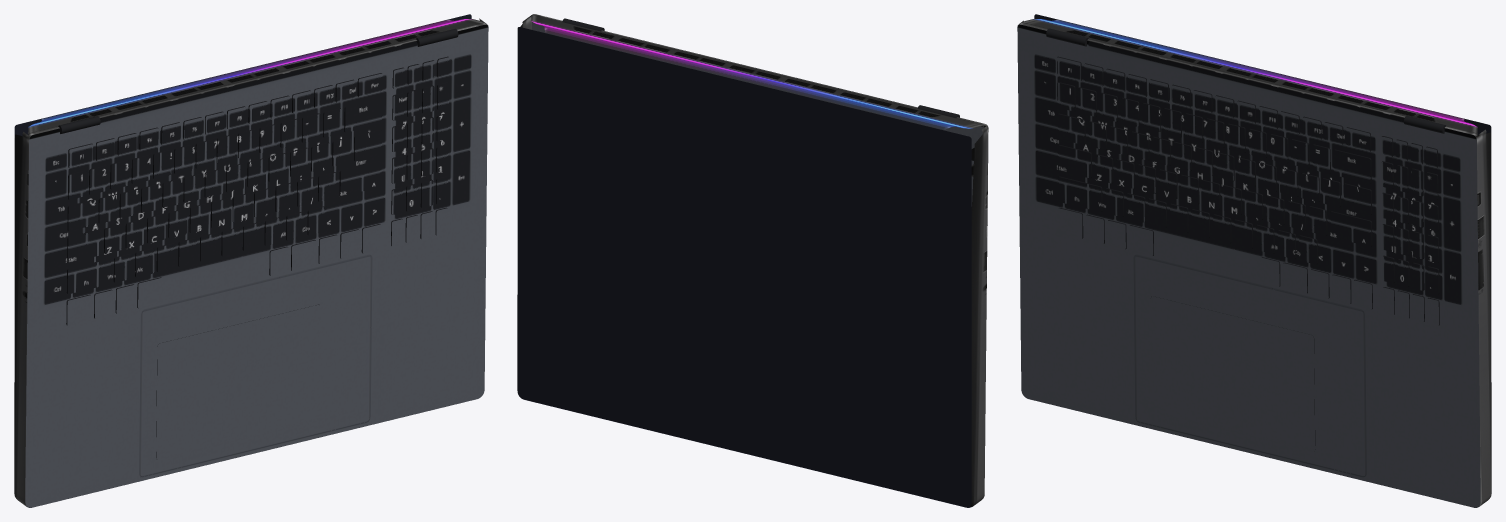
File: body.obj
The picture shows the model from 3 angles, left to right: view 1: azimuth 30°, elevation 25°; view 2: azimuth 150°, elevation 25°; view 3: azimuth 330°, elevation 25°; orthographic projection.
Visible parts, largest first — view 1: deck, keys.001, base.002, keys, base.003, hinge; view 2: base.004, base.002, base.003, deck; view 3: deck, keys.001, base.002, keys, base.001, hinge.
Boxes of the visible parts, bbox=[...] form: deck: bbox=[25, 24, 488, 507]; keys.001: bbox=[67, 57, 449, 325]; base.002: bbox=[28, 19, 487, 136]; keys: bbox=[66, 56, 448, 325]; base.003: bbox=[14, 132, 29, 506]; hinge: bbox=[58, 28, 458, 133]; base.004: bbox=[517, 27, 971, 507]; base.002: bbox=[531, 14, 987, 129]; base.003: bbox=[970, 125, 988, 506]; deck: bbox=[532, 22, 985, 206]; deck: bbox=[1017, 24, 1480, 507]; keys.001: bbox=[1056, 57, 1438, 325]; base.002: bbox=[1018, 19, 1477, 136]; keys: bbox=[1057, 56, 1439, 325]; base.001: bbox=[1476, 129, 1491, 506]; hinge: bbox=[1046, 28, 1446, 133].
Bounding box in the file's own units: 357 × 281 × 24.1.
